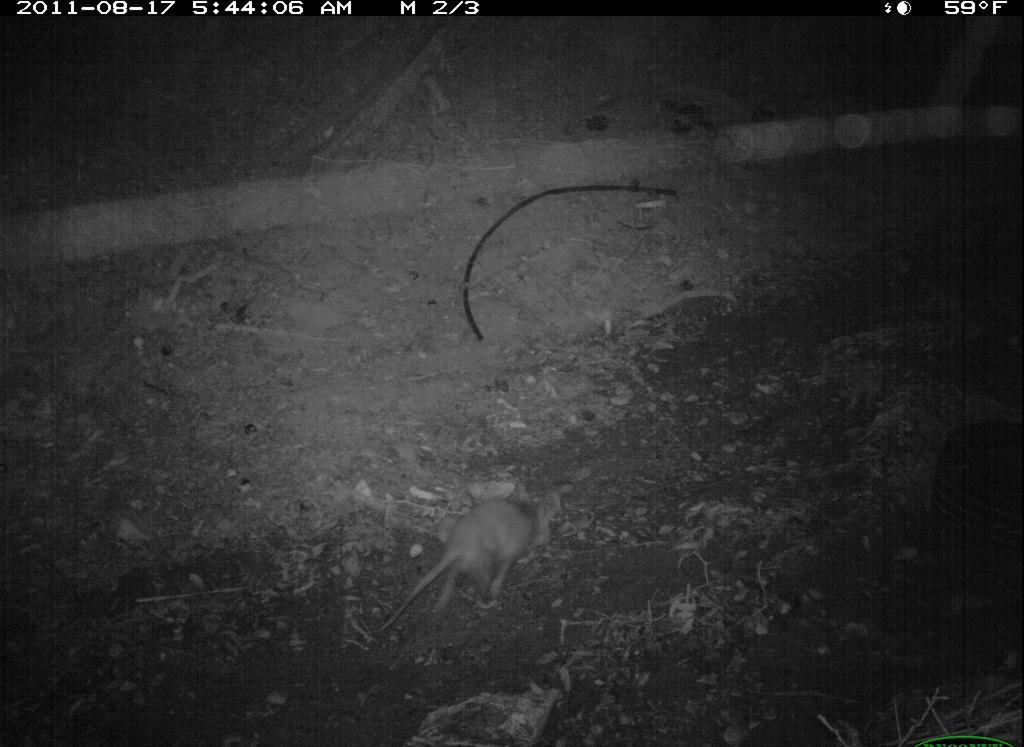opossum: (385, 489, 571, 637)
